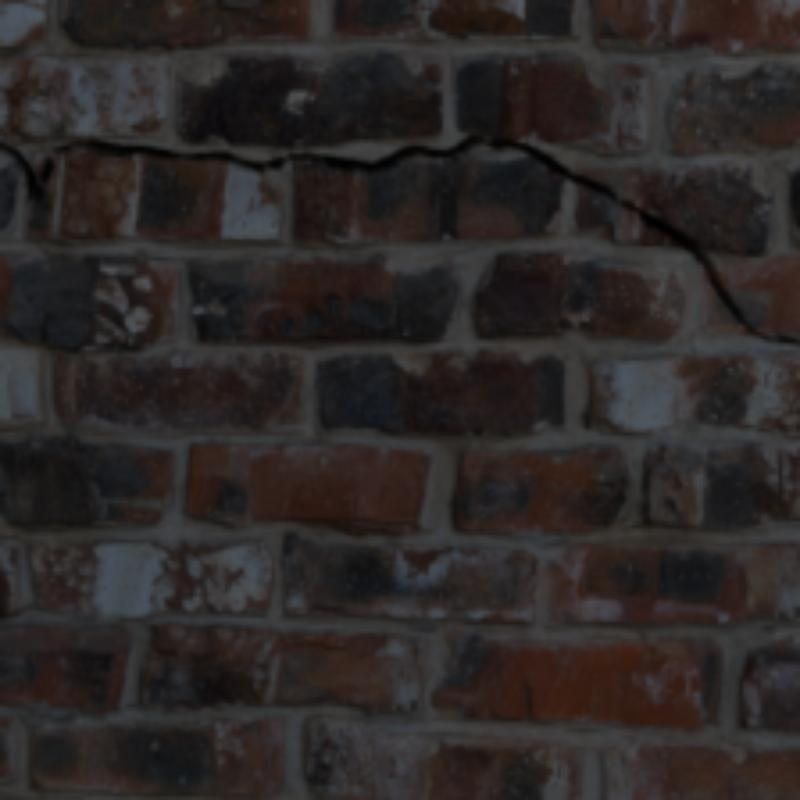pothole: (54, 136, 796, 343), (0, 143, 50, 200)
